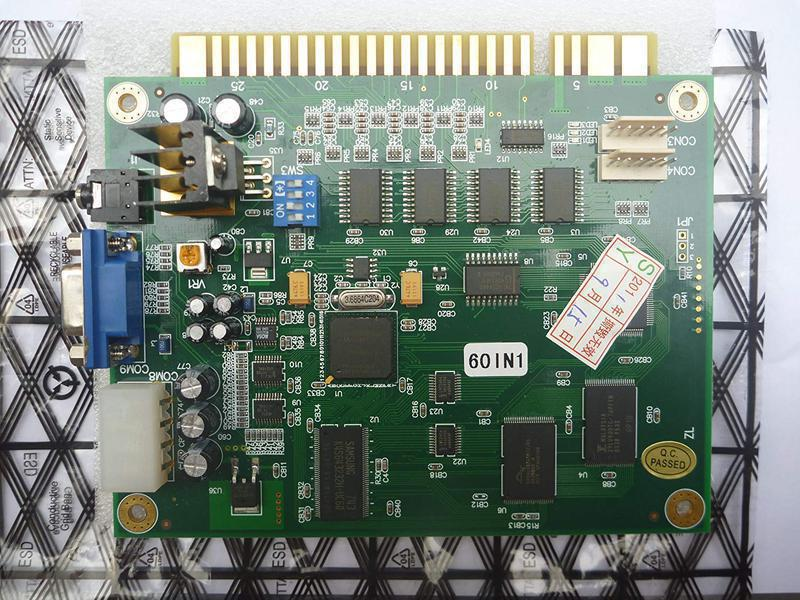SMD capacitor: (401, 318, 415, 326), (421, 403, 426, 420), (300, 131, 305, 145)
electrolytic capacitor: (209, 92, 261, 141), (177, 440, 224, 484), (174, 364, 219, 404), (178, 405, 221, 437), (211, 292, 240, 316)
